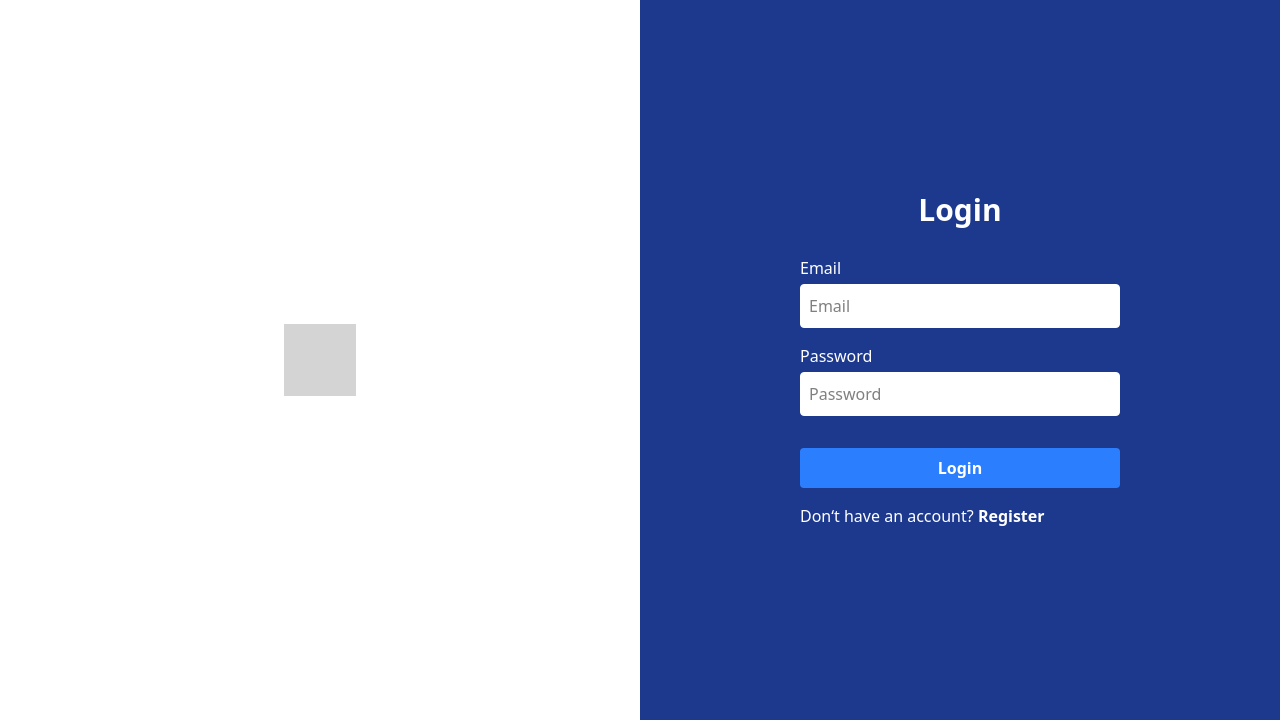
Login spec › should display error message when email is empty
The image size is (1280, 720).
In the password field with placeholder "Password": (960, 394) [800, 372, 1120, 416], type "passwordrahasia"
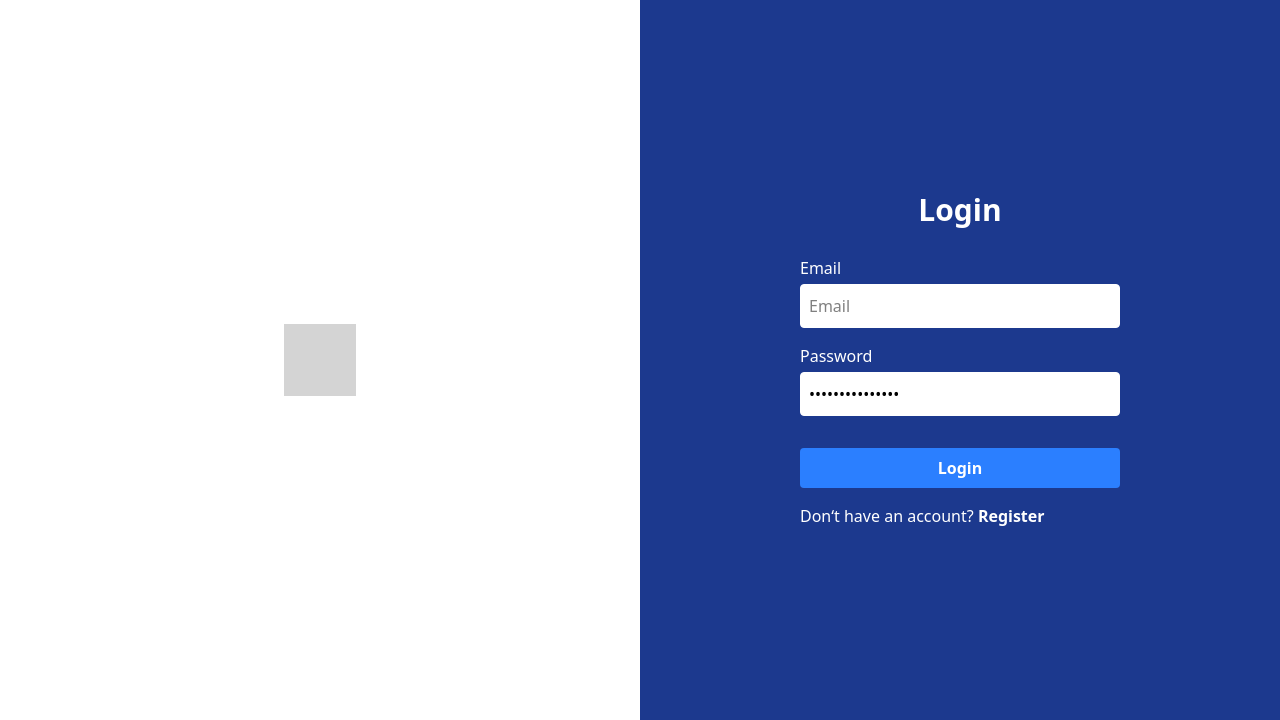
Click the button "Login": (960, 468) [800, 448, 1120, 488]
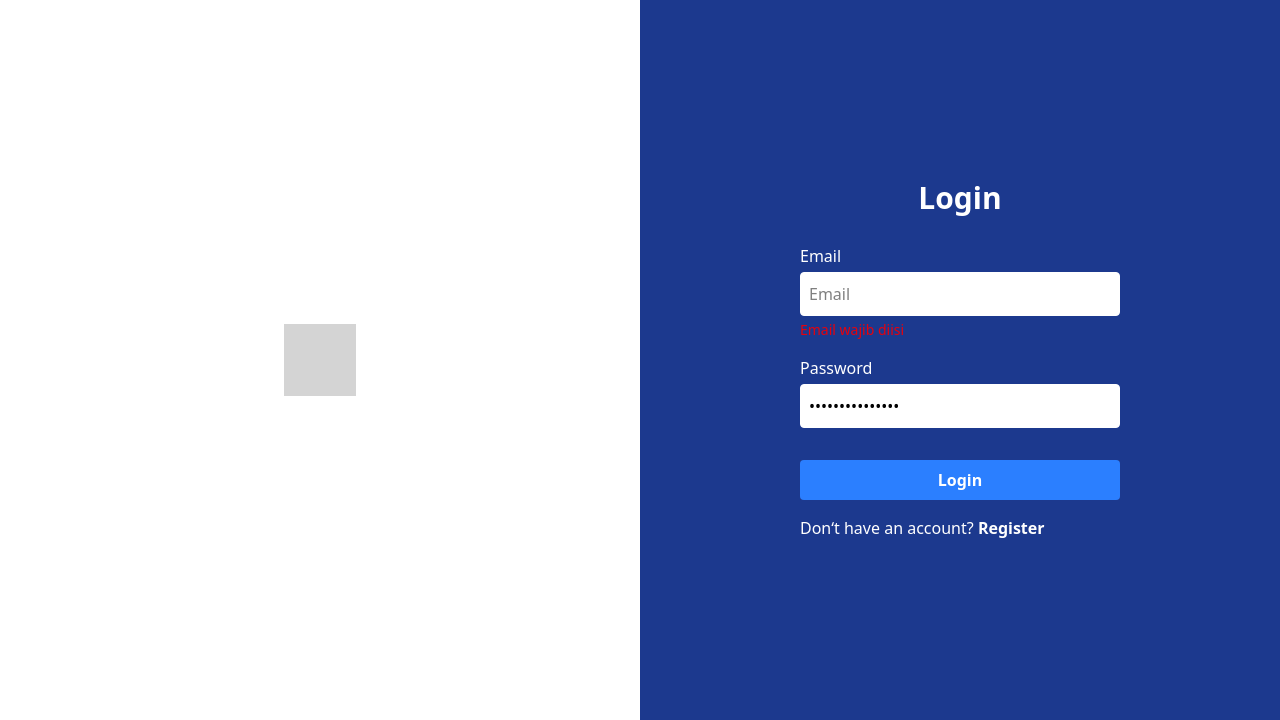
Result: the text "Email wajib diisi" is shown at [800, 320, 904, 339]
